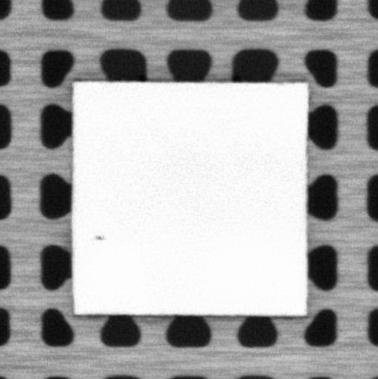DIE_INK: (93, 231, 107, 243)
